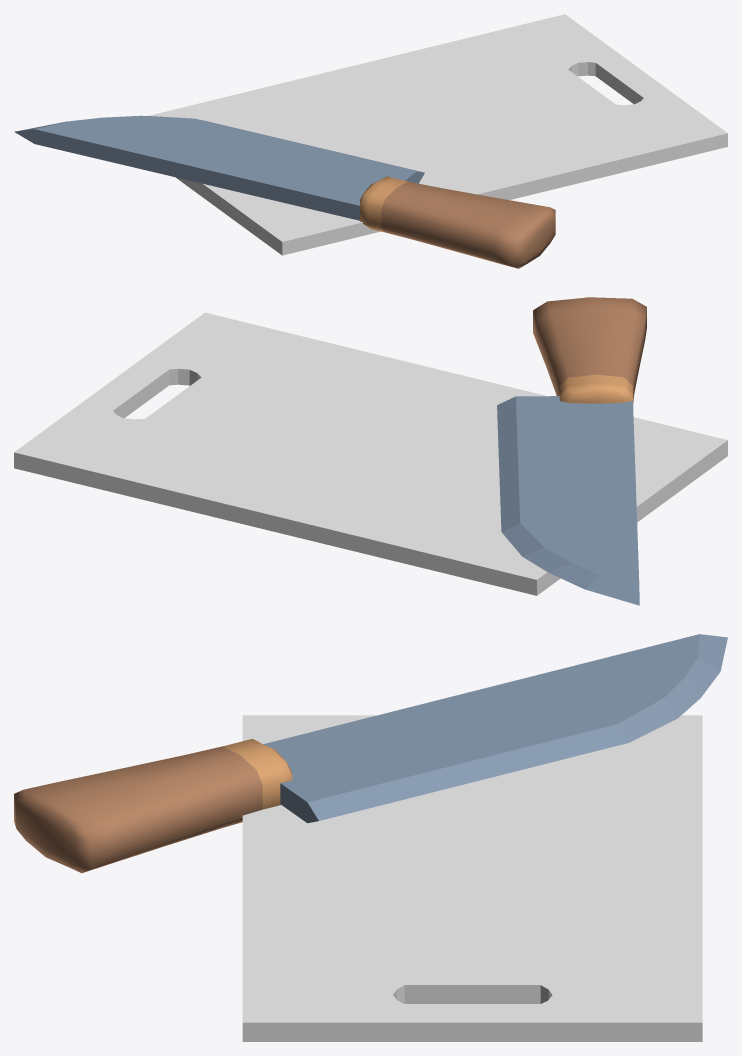
The model's file is cutting_table.glb.
3 views of the same model, one above another, from view 1: azimuth 30°, elevation 25°; view 2: azimuth 150°, elevation 25°; view 3: azimuth 270°, elevation 25° (orthographic). The views are drawn at different scales.
Parts seen in each view (by area): view 1: Environment_CuttingTable; view 2: Environment_CuttingTable; view 3: Environment_CuttingTable.
Boxes of the visible parts, box(x1,y1,x2,y2) form: Environment_CuttingTable: box(14, 14, 727, 268); Environment_CuttingTable: box(14, 297, 727, 605); Environment_CuttingTable: box(14, 634, 727, 1041).
Bounding box in the file's own units: 2.1 × 0.1515 × 1.69.
Materials: 1 (1 with a texture image).
